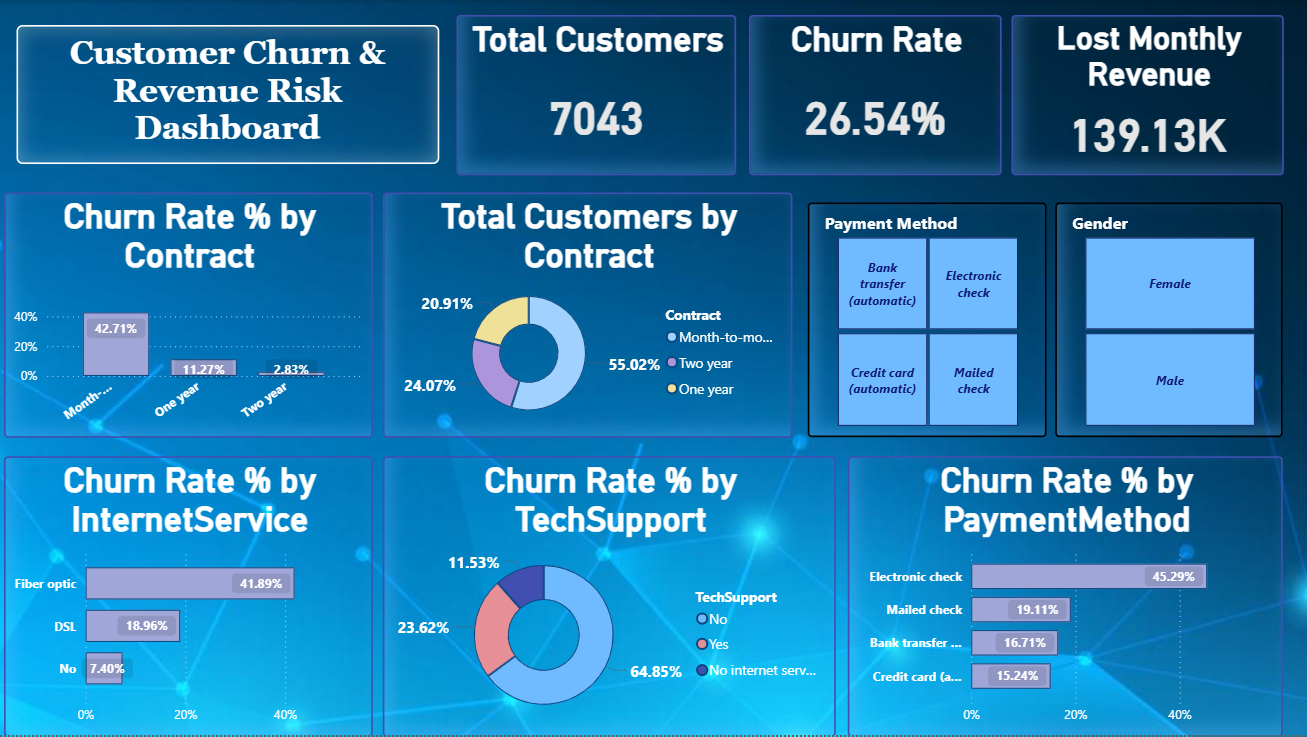

The dashboard page shown, as its layout file describes it:
{"tool":"powerbi","page":{"name":"Page 1","canvas":[1280,720],"ordinal":0},"visuals":[{"type":"card","title":"Total Customers","fields":{"Values":["Tele communication Dataset.Total Customers"]},"box":[447.6,14.7,273.9,156.5],"z":0},{"type":"card","title":"Churn Rate","fields":{"Values":["Tele communication Dataset.Churn Rate %"]},"box":[733.7,14.7,247,156.5],"z":1000},{"type":"card","title":"Lost Monthly Revenue ","fields":{"Values":["Tele communication Dataset.Lost Monthly Revenue"]},"box":[990.5,14.7,266.6,156.5],"z":2000},{"type":"textbox","box":[17.1,24.5,413.3,135.7],"z":3000},{"type":"donutChart","fields":{"Category":["Tele communication Dataset.Contract"],"Y":["Tele communication Dataset.Total Customers"]},"box":[375.4,188.3,401.1,239.7],"z":4000},{"type":"clusteredBarChart","fields":{"Category":["Tele communication Dataset.InternetService"],"Y":["Tele communication Dataset.Churn Rate %"]},"box":[5,445.9,361,274.8],"z":5000},{"type":"clusteredBarChart","fields":{"Category":["Tele communication Dataset.PaymentMethod"],"Y":["Tele communication Dataset.Churn Rate %"]},"box":[830.6,445.9,425.9,274.8],"z":6000},{"type":"donutChart","fields":{"Category":["Tele communication Dataset.TechSupport"],"Y":["Tele communication Dataset.Churn Rate %"]},"box":[376,445.9,443.4,274.8],"z":7000},{"type":"clusteredColumnChart","fields":{"Category":["Tele communication Dataset.Contract"],"Y":["Tele communication Dataset.Churn Rate %"]},"box":[4.9,188.3,360.7,239.7],"z":8000},{"type":"slicer","fields":{"Values":["Tele communication Dataset.PaymentMethod"]},"box":[790.6,198.6,233.6,229.8],"z":9000},{"type":"slicer","fields":{"Values":["Tele communication Dataset.gender"]},"box":[1033.3,198.1,222.6,229.9],"z":10000}]}

Visuals, with their boxes in screenshot pixels (x1, y1, x2, y2), scaled from the page's 1280x720 canvas onto the 1307x737 screenshot:
"Total Customers" card: 457/15/737/175
"Churn Rate" card: 749/15/1001/175
"Lost Monthly Revenue " card: 1011/15/1284/175
textbox: 17/25/439/164
donutChart - Tele communication Dataset.Contract x Tele communication Dataset.Total Customers: 383/193/793/438
clusteredBarChart - Tele communication Dataset.InternetService x Tele communication Dataset.Churn Rate %: 5/456/374/736
clusteredBarChart - Tele communication Dataset.PaymentMethod x Tele communication Dataset.Churn Rate %: 848/456/1283/736
donutChart - Tele communication Dataset.TechSupport x Tele communication Dataset.Churn Rate %: 384/456/837/736
clusteredColumnChart - Tele communication Dataset.Contract x Tele communication Dataset.Churn Rate %: 5/193/373/438
slicer - Tele communication Dataset.PaymentMethod: 807/203/1046/439
slicer - Tele communication Dataset.gender: 1055/203/1282/438
